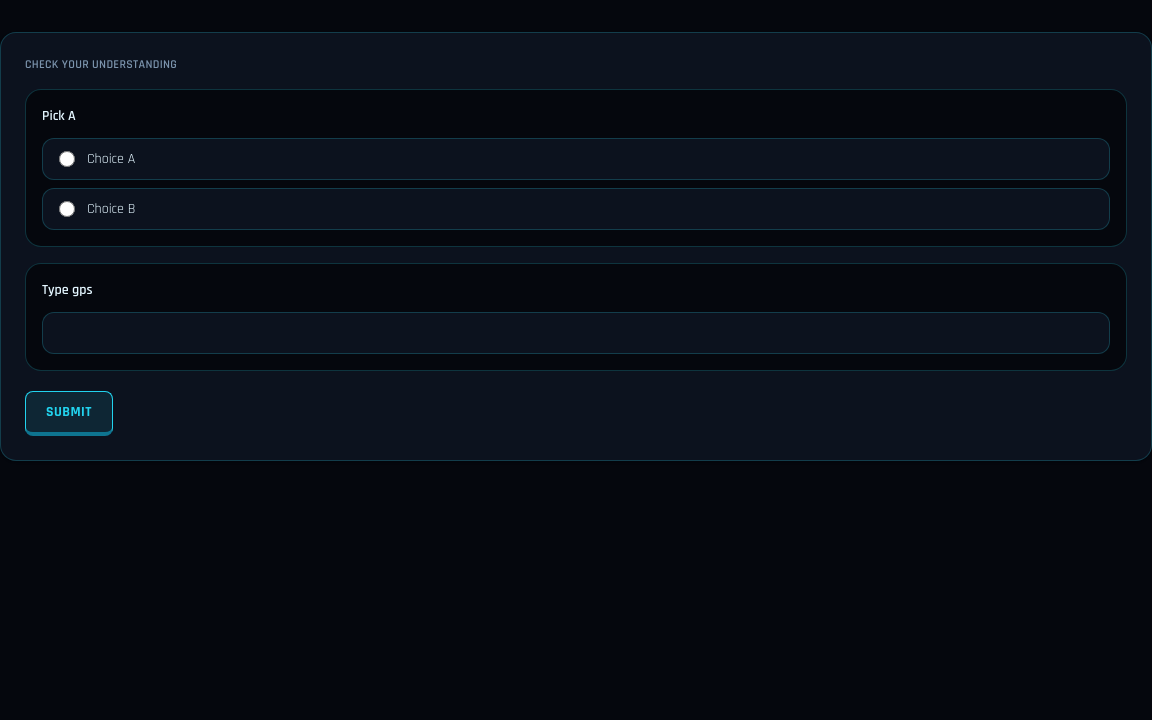
Test: Quiz › shows incorrect feedback for a wrong answer
Click the radio button labelled "Choice B". click: click(67, 209)
box: [59,201,75,217]
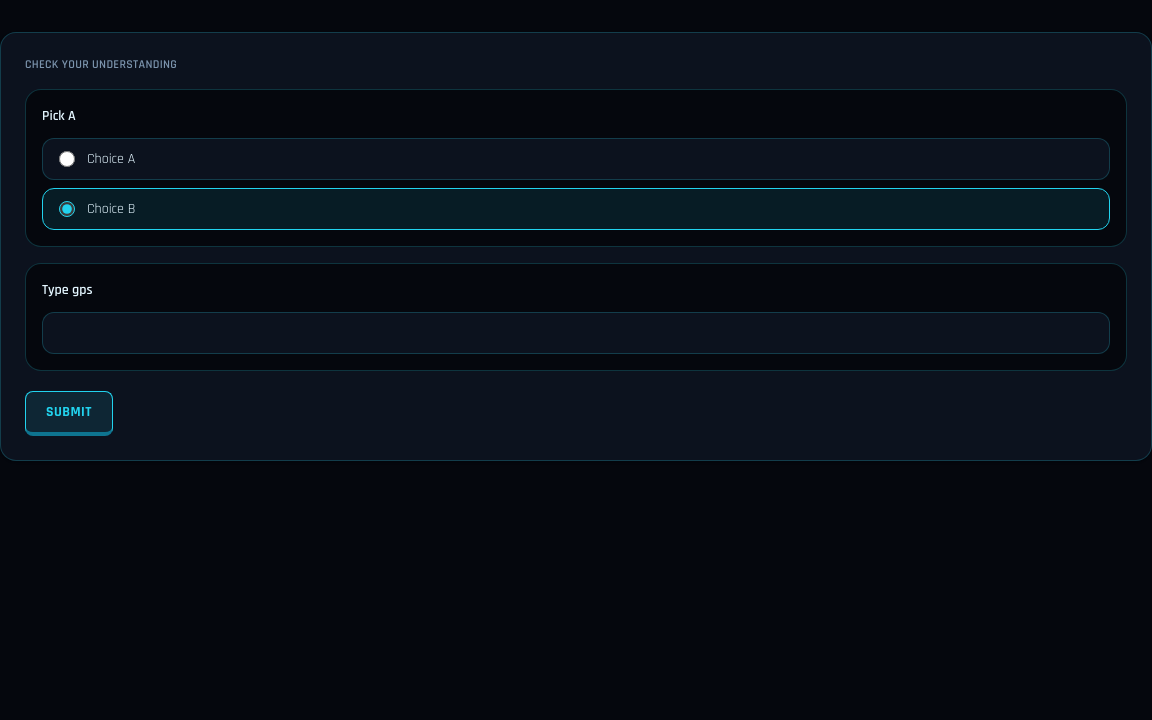
Type "gps" into the field named "Type gps". click: (576, 333)
box: [42,312,1110,354]
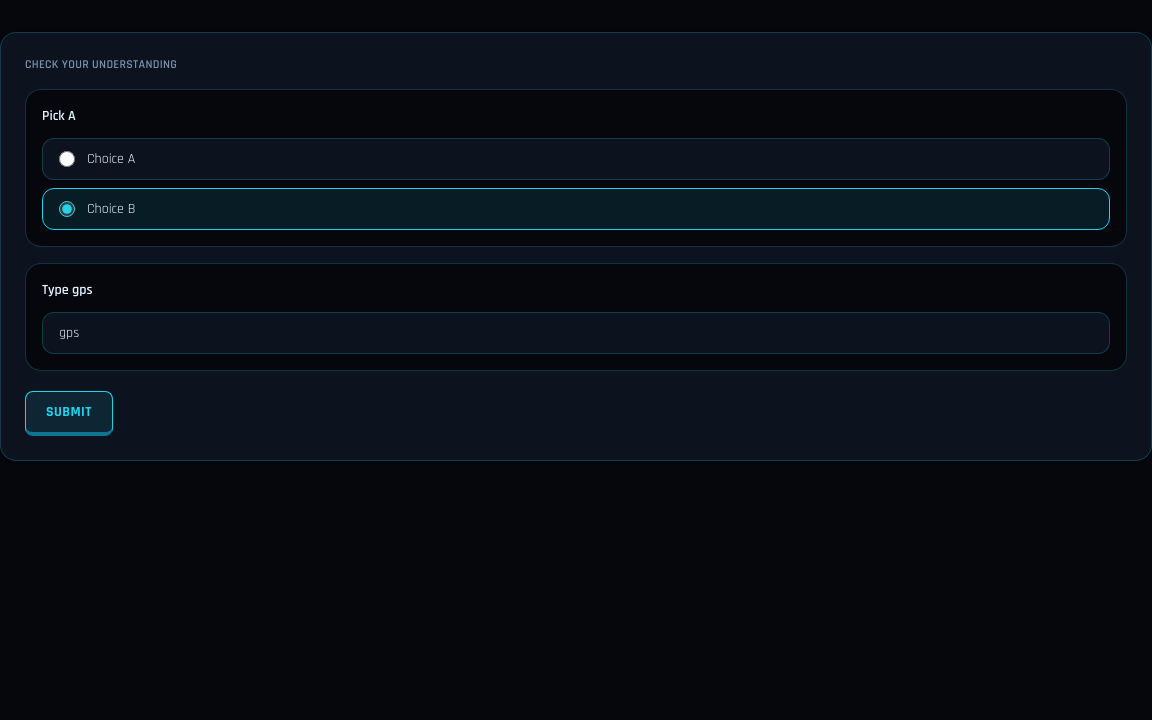
Click the button "Submit". click: click(69, 414)
box: [25,391,113,436]
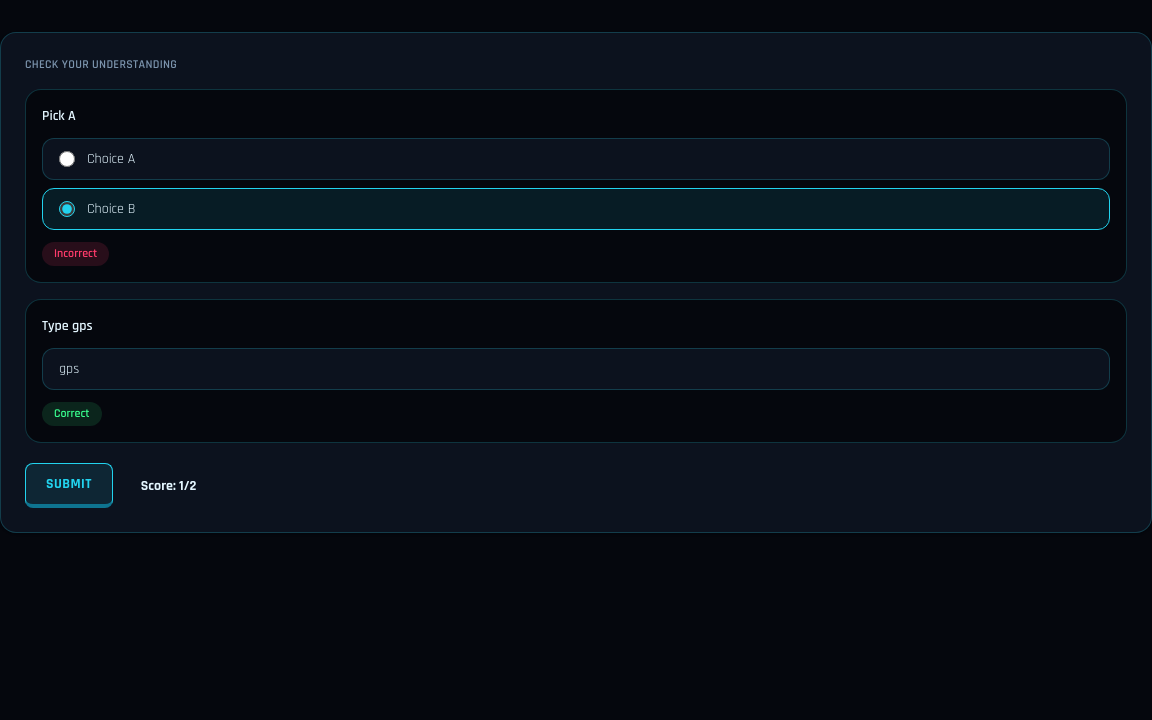
Expected: the text "Incorrect" is shown, [42,242,109,266]
Expected: the text "Correct" is shown, [42,402,102,426]
